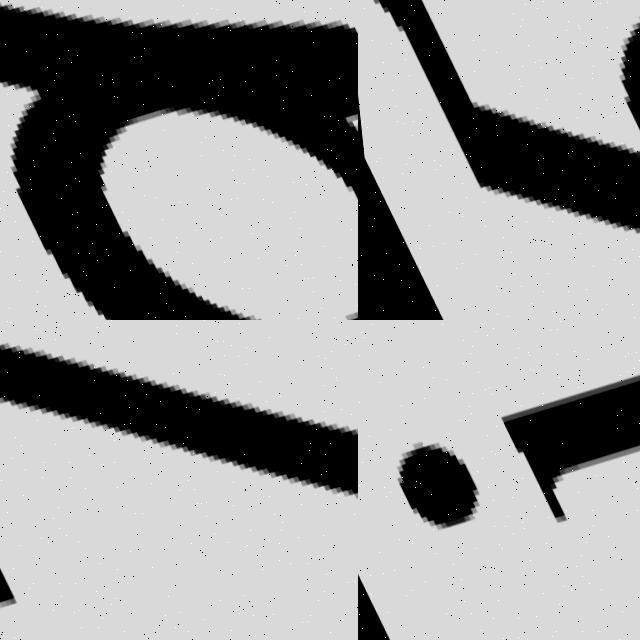5: (358, 0, 640, 320)
7: (0, 320, 358, 640)
A: (0, 0, 358, 320)
J: (358, 320, 640, 640)
